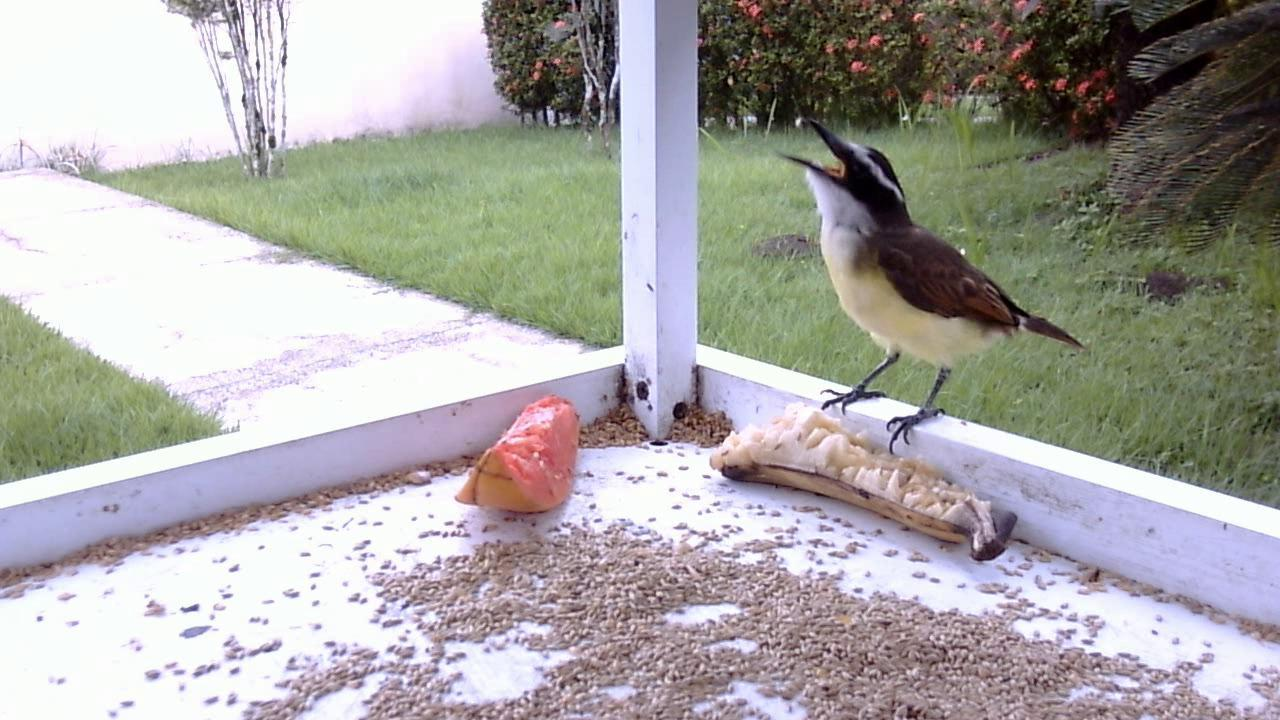bem_te_vi: (750, 95, 1098, 477)
